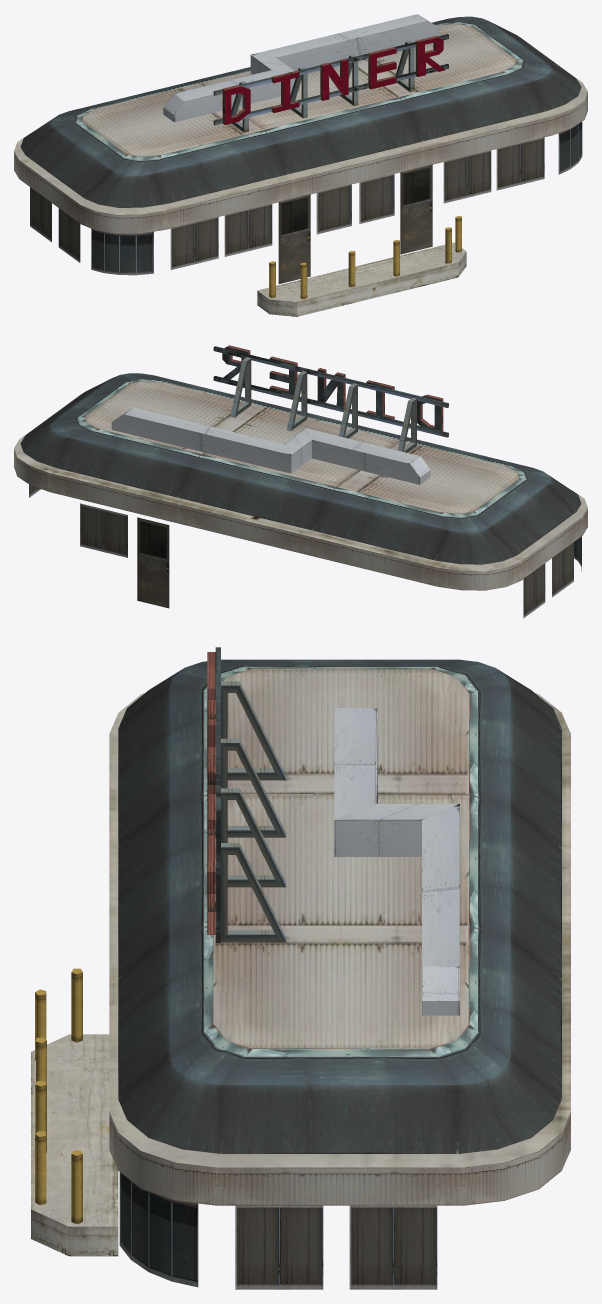
Rendered from rural_diner_2_rural_facade_flr_2_0_lev2.glb.
3 views of the same model, one above another, from view 1: azimuth 30°, elevation 25°; view 2: azimuth 150°, elevation 25°; view 3: azimuth 270°, elevation 25° (orthographic). The views are drawn at different scales.
Visible parts, largest first — view 1: rural_diner_2_rural_facade_flr_2_0_lev2; view 2: rural_diner_2_rural_facade_flr_2_0_lev2; view 3: rural_diner_2_rural_facade_flr_2_0_lev2.
Part boxes in pixels (x1=…): rural_diner_2_rural_facade_flr_2_0_lev2: x1=14, y1=14, x2=587, y2=316; rural_diner_2_rural_facade_flr_2_0_lev2: x1=14, y1=345, x2=587, y2=618; rural_diner_2_rural_facade_flr_2_0_lev2: x1=31, y1=647, x2=570, y2=1289.
Size of the model in its own units: 13.35 by 5.13 by 6.22.
1 material, 1 textured.
